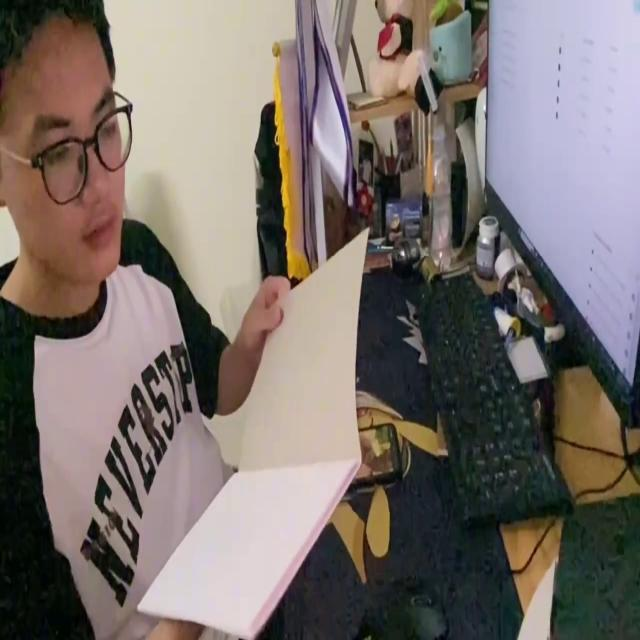book: (135, 225, 363, 628)
laptop: (484, 0, 640, 432)
student: (0, 0, 290, 640)
